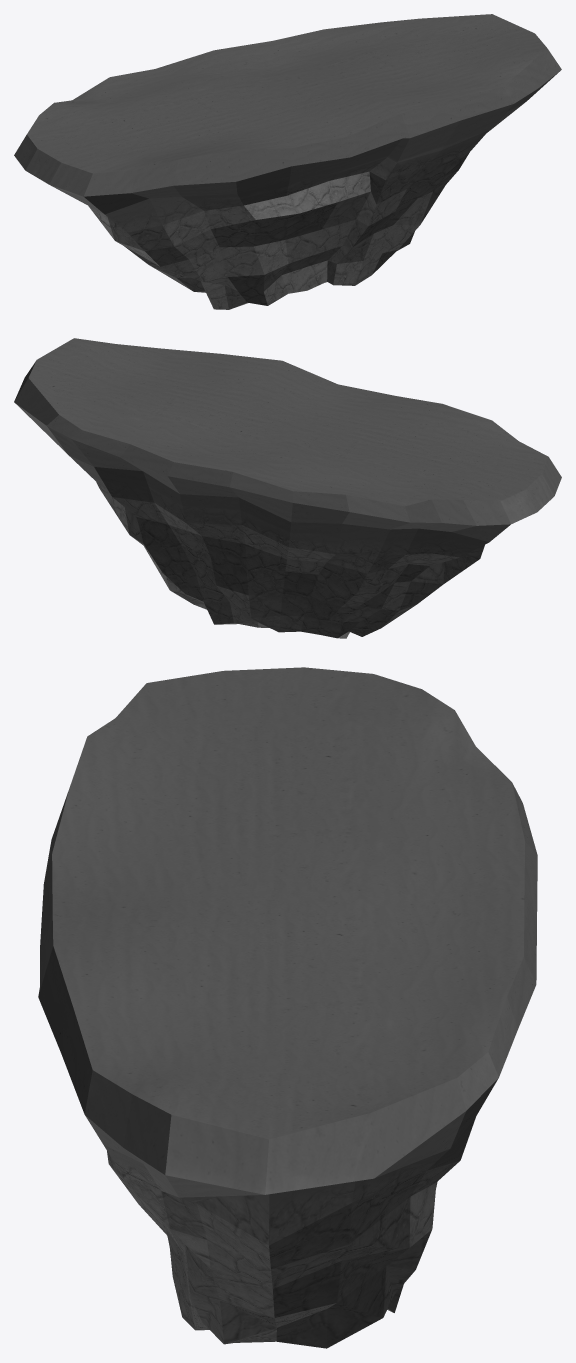
Rendered from m_island_large_2.fbx.
The picture shows the model from 3 angles, top to bottom: view 1: azimuth 30°, elevation 25°; view 2: azimuth 150°, elevation 25°; view 3: azimuth 270°, elevation 25°; orthographic projection. The views are drawn at different scales.
Visible parts, largest first — view 1: Island19; view 2: Island19; view 3: Island19.
Boxes of the visible parts, box(x1,y1,x2,y2) form: Island19: box(14, 14, 561, 309); Island19: box(14, 338, 561, 638); Island19: box(38, 667, 537, 1348).
Size of the model in its own units: 65.3 by 23.54 by 27.49.
